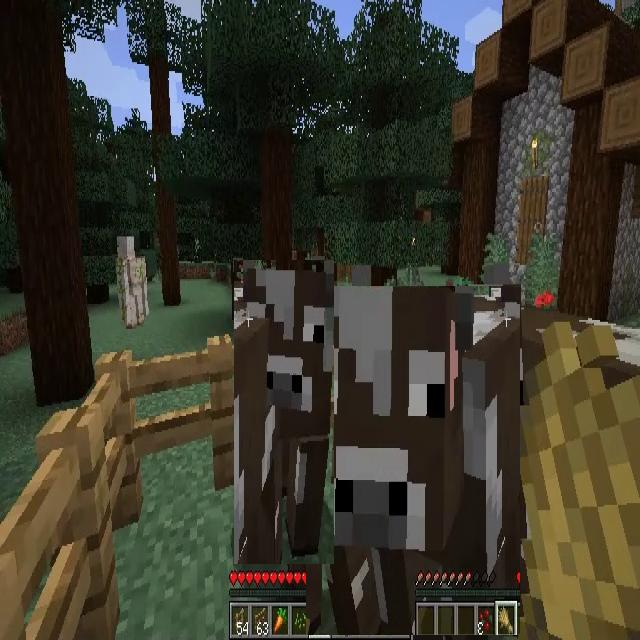cow: (306, 286, 520, 635), (234, 260, 334, 564)
people: (117, 235, 150, 329)
